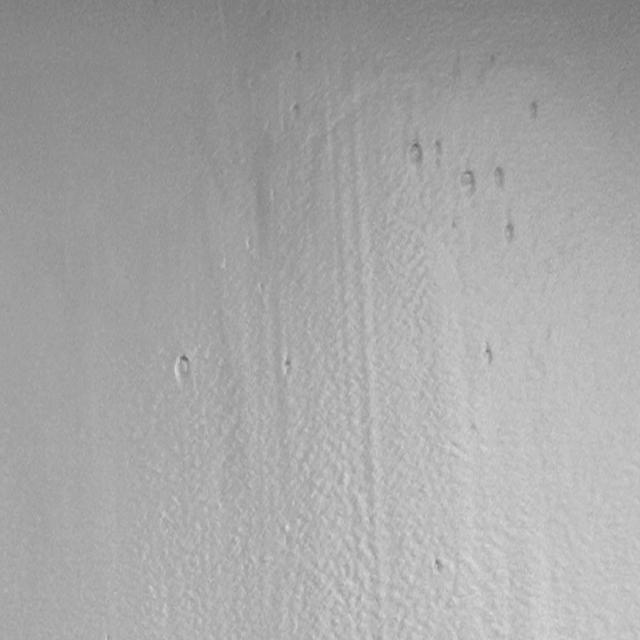pin holes: (170, 353, 195, 387), (456, 168, 476, 200), (406, 142, 426, 170), (476, 342, 496, 370), (499, 220, 518, 248), (488, 166, 508, 192), (522, 99, 542, 125), (285, 102, 304, 125), (277, 356, 294, 380), (430, 140, 446, 164), (431, 557, 445, 577), (290, 50, 304, 66)
